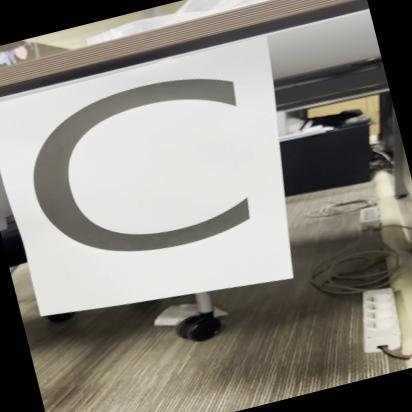seat: (0, 36, 303, 328)
